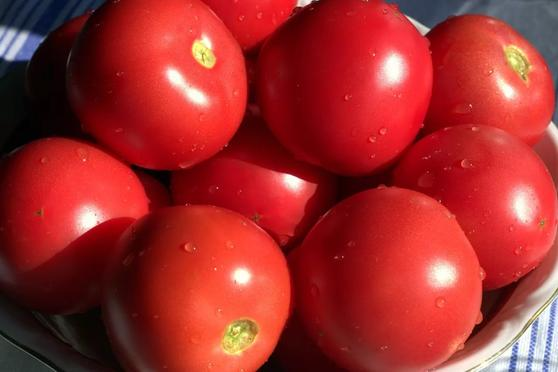tomato: (287, 186, 483, 370), (65, 4, 265, 179), (263, 4, 436, 177), (115, 206, 294, 372), (5, 131, 154, 327), (411, 122, 558, 275)
